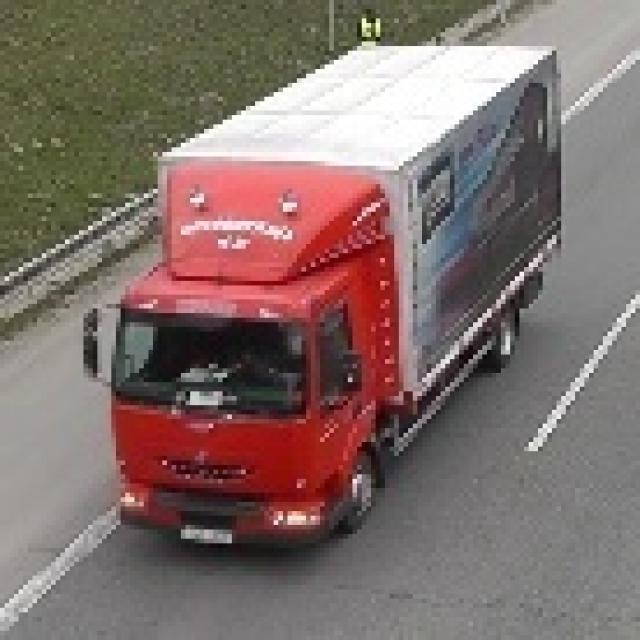truck: (88, 37, 571, 548)
